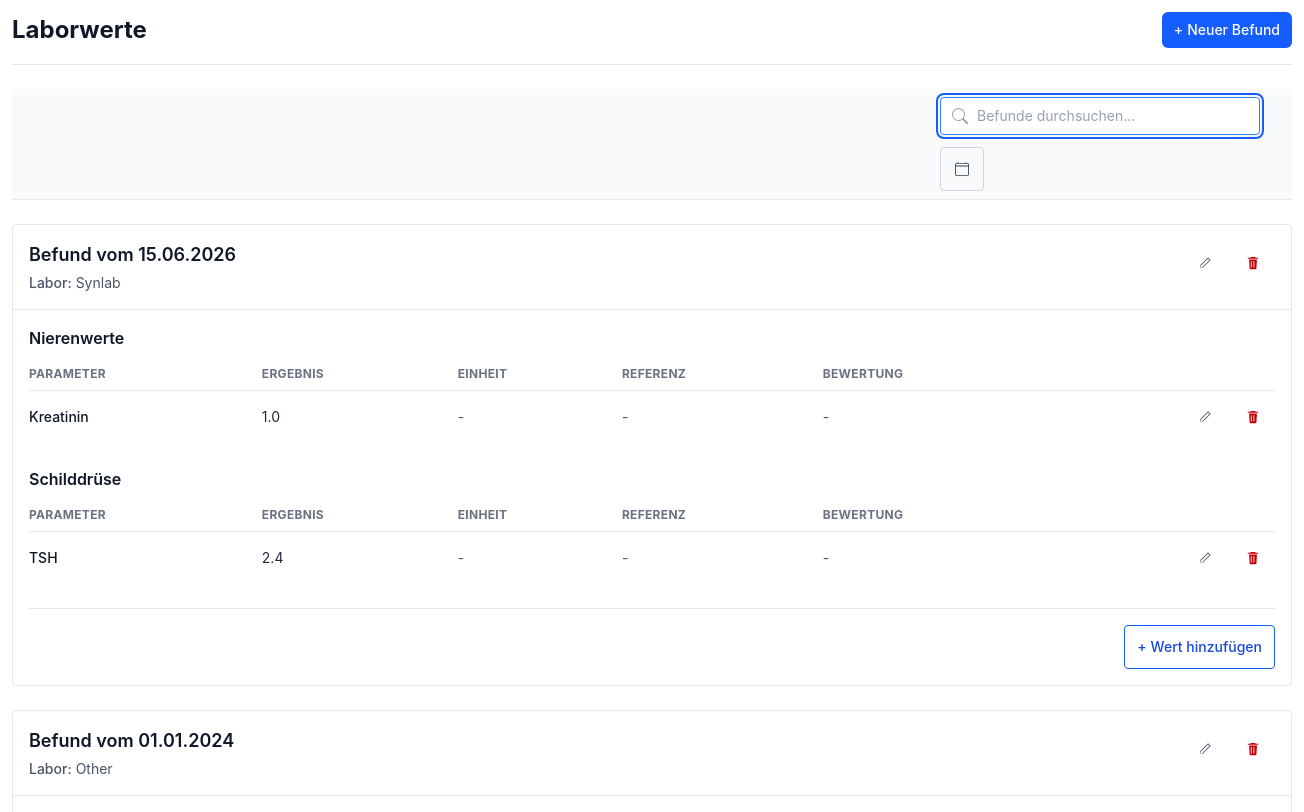
Test: LabValuesView › search filter (P-22b) › shows the no-matches state when query has zero hits
The width and height of the screenshot is (1304, 812).
Type "xyz" into the search field at (1100, 116), box 940,97 -> 1260,135
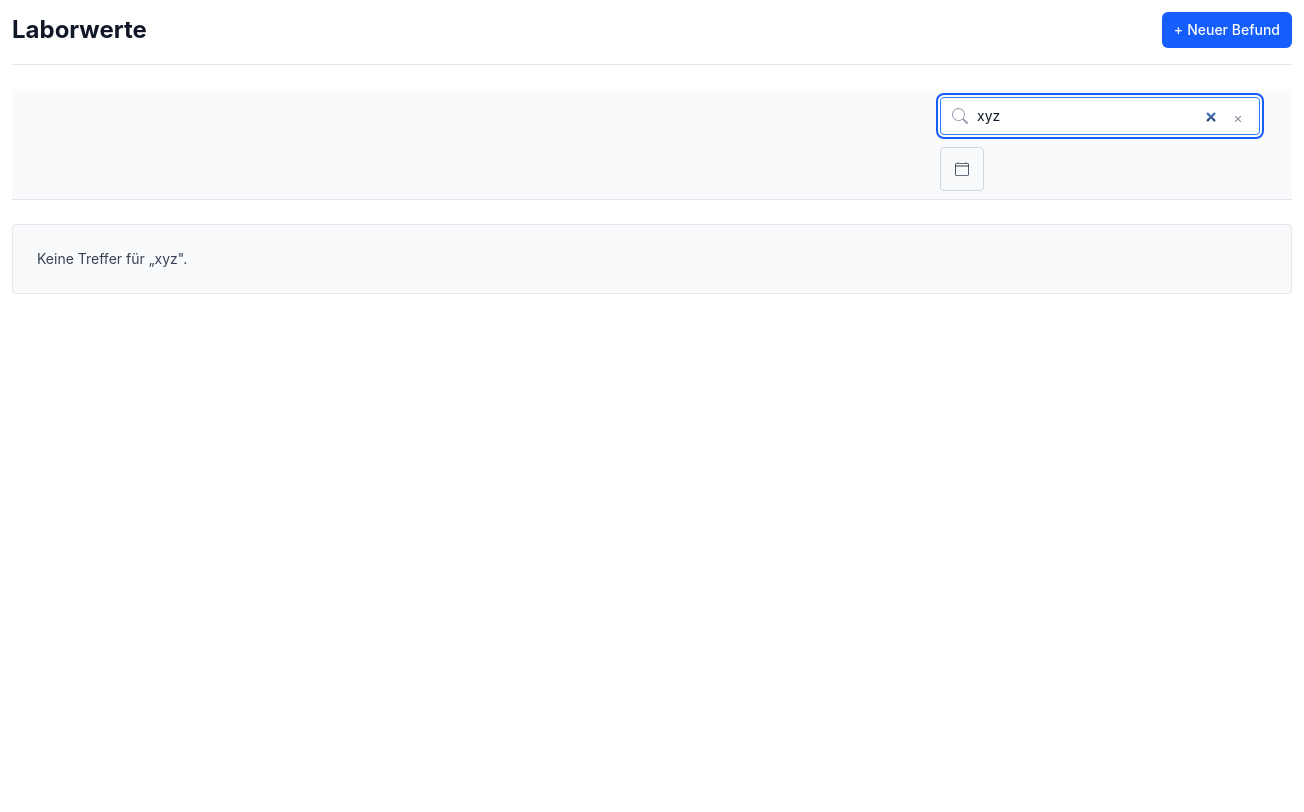
Result: the message with test id "lab-values-no-matches" shows "xyz" at 37,250 -> 187,267
